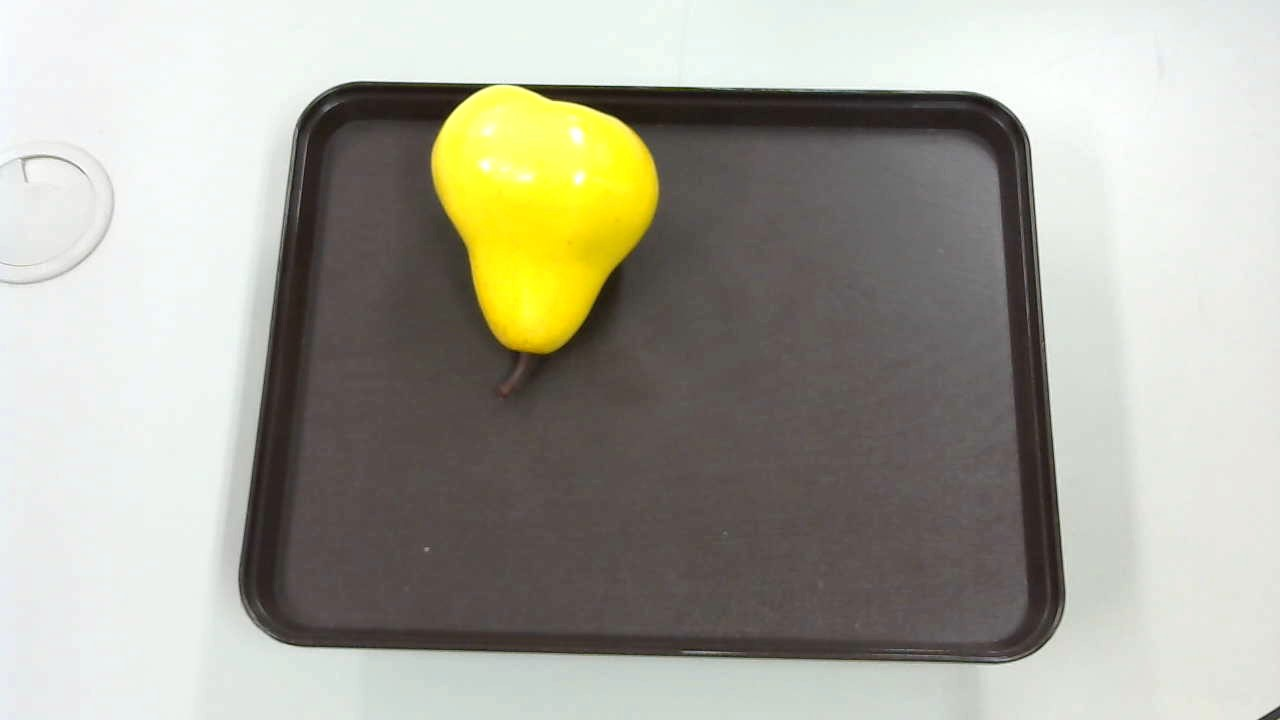yellow pear: (418, 71, 674, 408)
